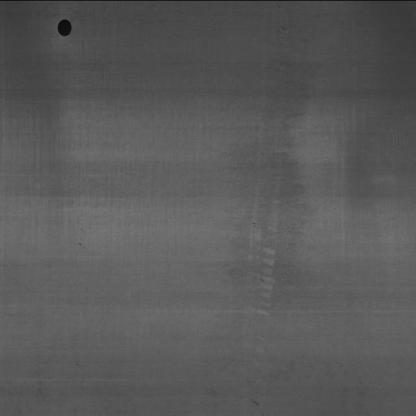punching_hole: (53, 16, 77, 39)
